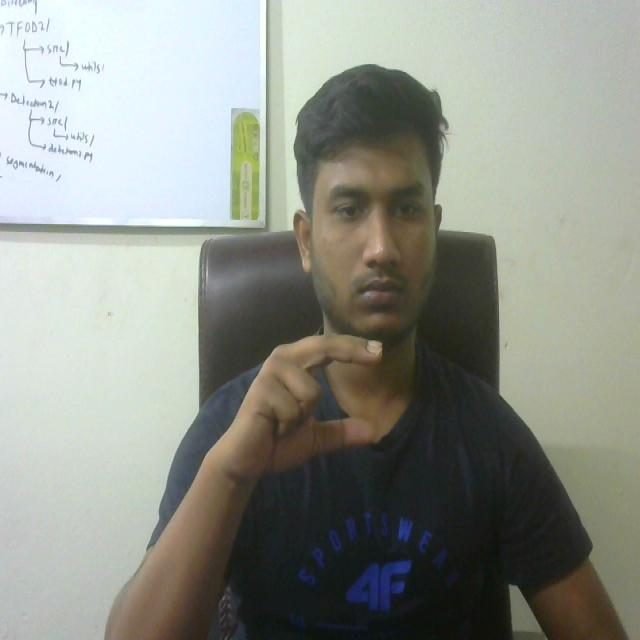No: (213, 319, 397, 493)
